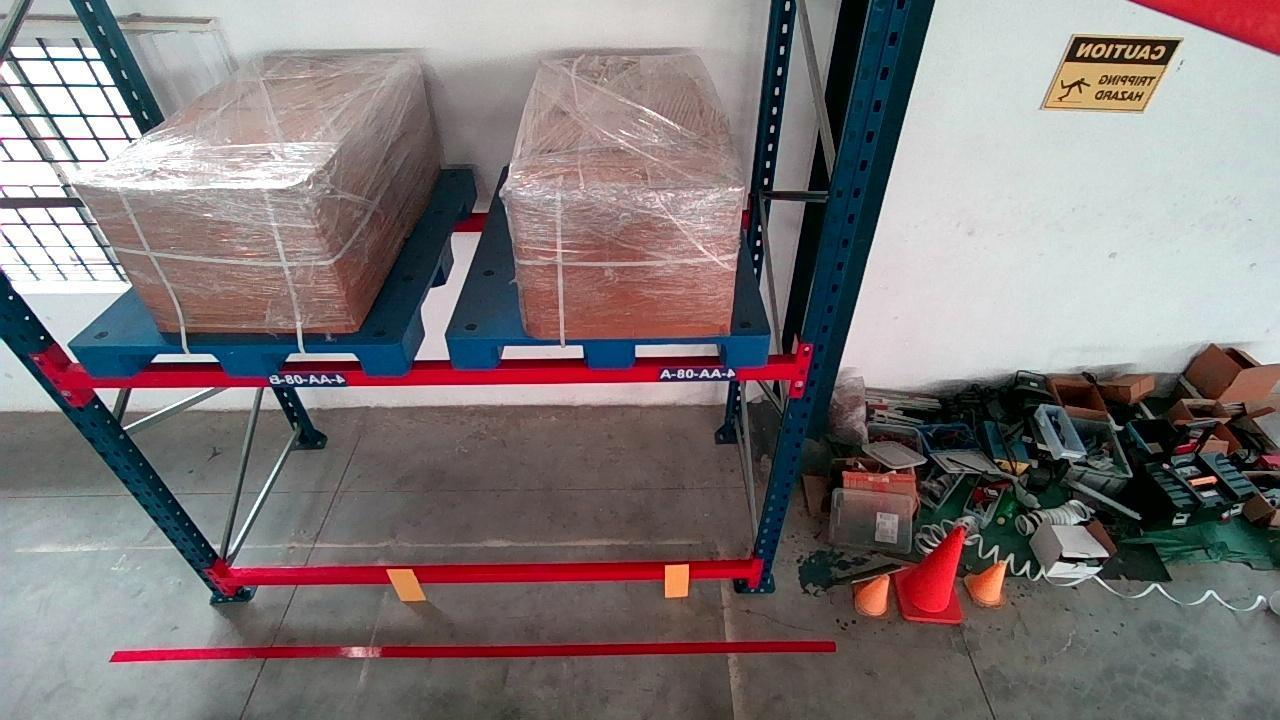h_rack: (61, 366, 797, 391), (220, 563, 755, 590)
orange_strip: (387, 566, 427, 600), (662, 562, 692, 596)
red_line: (112, 640, 834, 663)
small_pallet: (90, 341, 405, 376), (458, 336, 771, 369)
